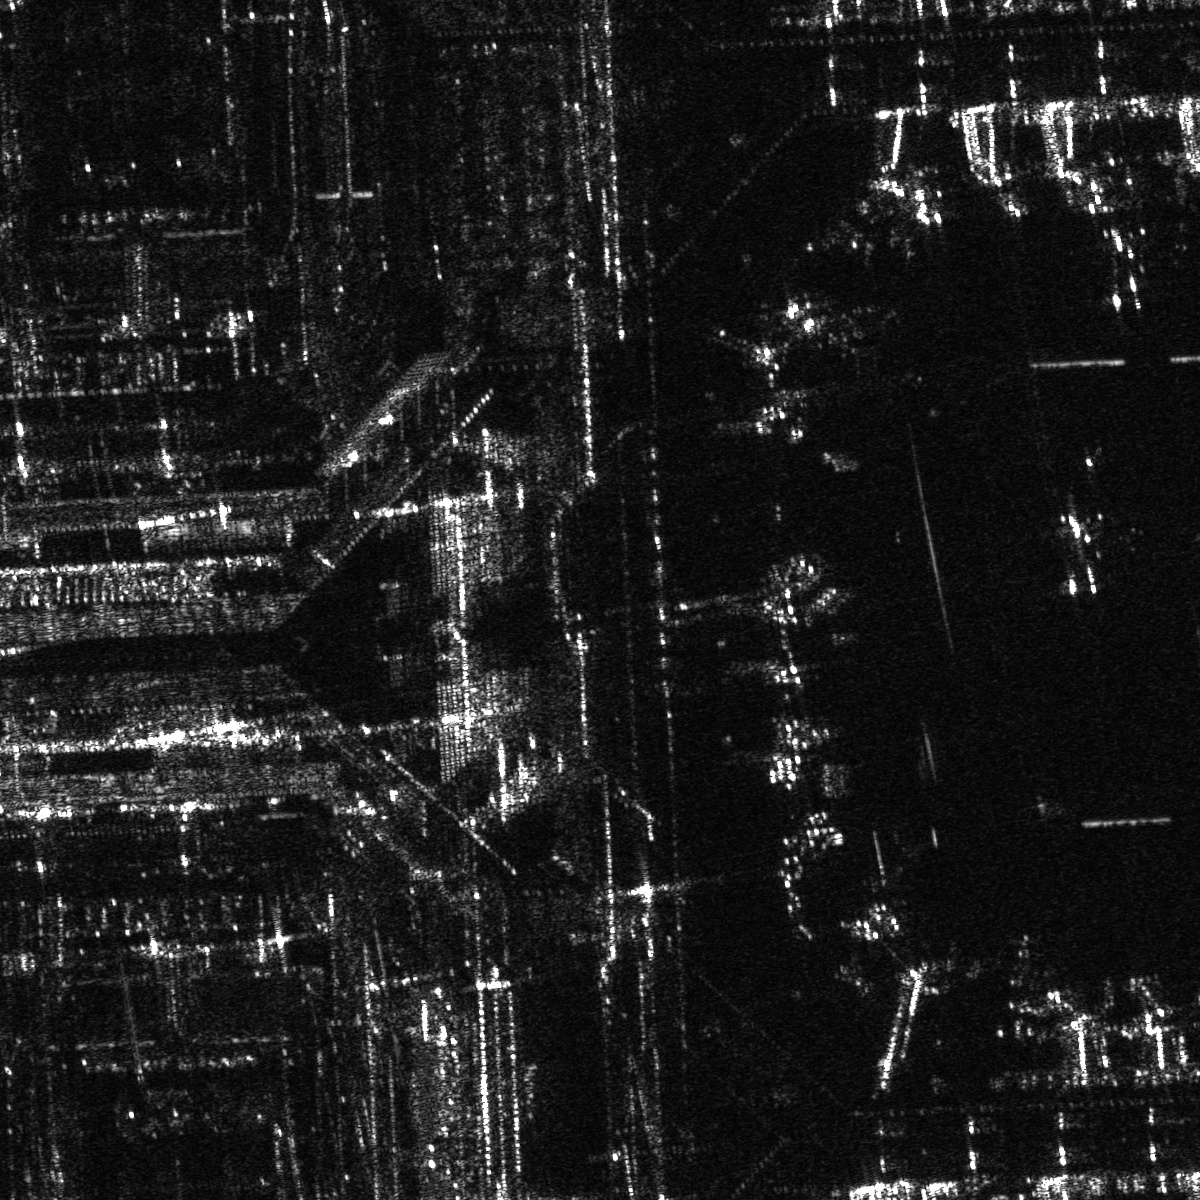A320/321: (762, 542, 876, 645)
A330: (775, 291, 898, 373)
Boeing787: (1076, 216, 1163, 311)
other: (1036, 488, 1124, 608)
